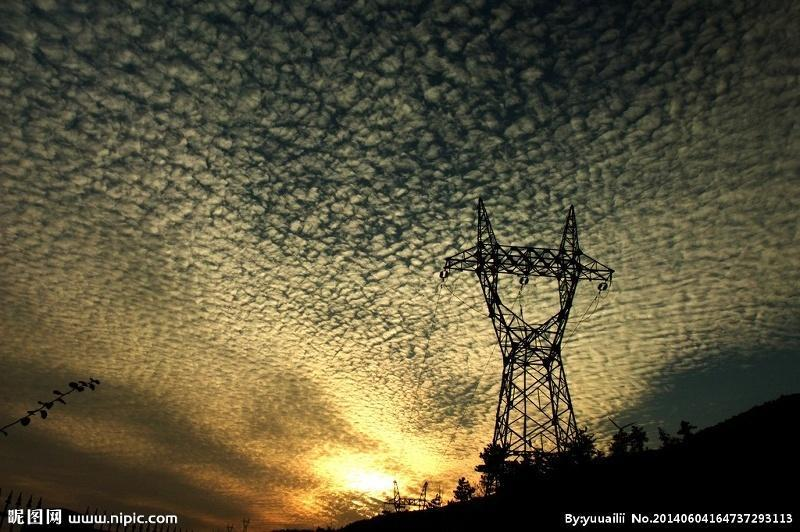power_tower: (436, 198, 614, 499), (383, 480, 439, 516), (240, 516, 252, 532), (224, 523, 236, 532)
